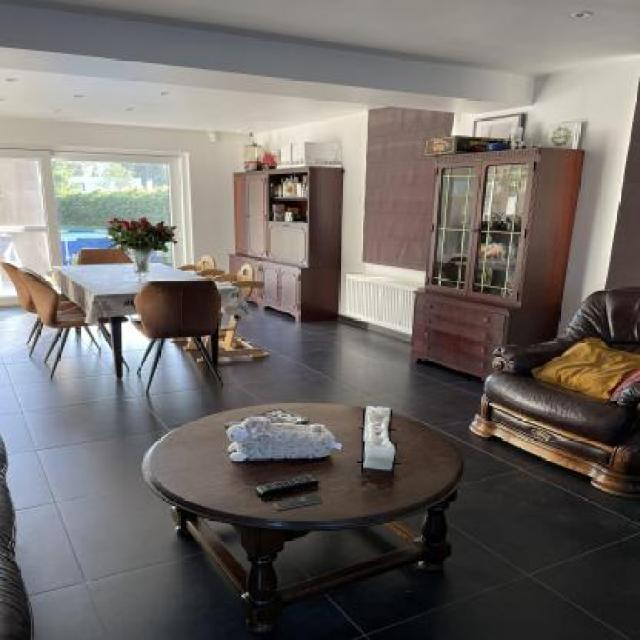Floor: (0, 299, 639, 640), (272, 524, 412, 589), (201, 517, 251, 573), (404, 510, 426, 530), (220, 314, 231, 326), (232, 344, 247, 349), (104, 323, 110, 334), (130, 314, 140, 320), (218, 344, 226, 351), (200, 336, 208, 340), (218, 336, 226, 338), (58, 311, 62, 313)
